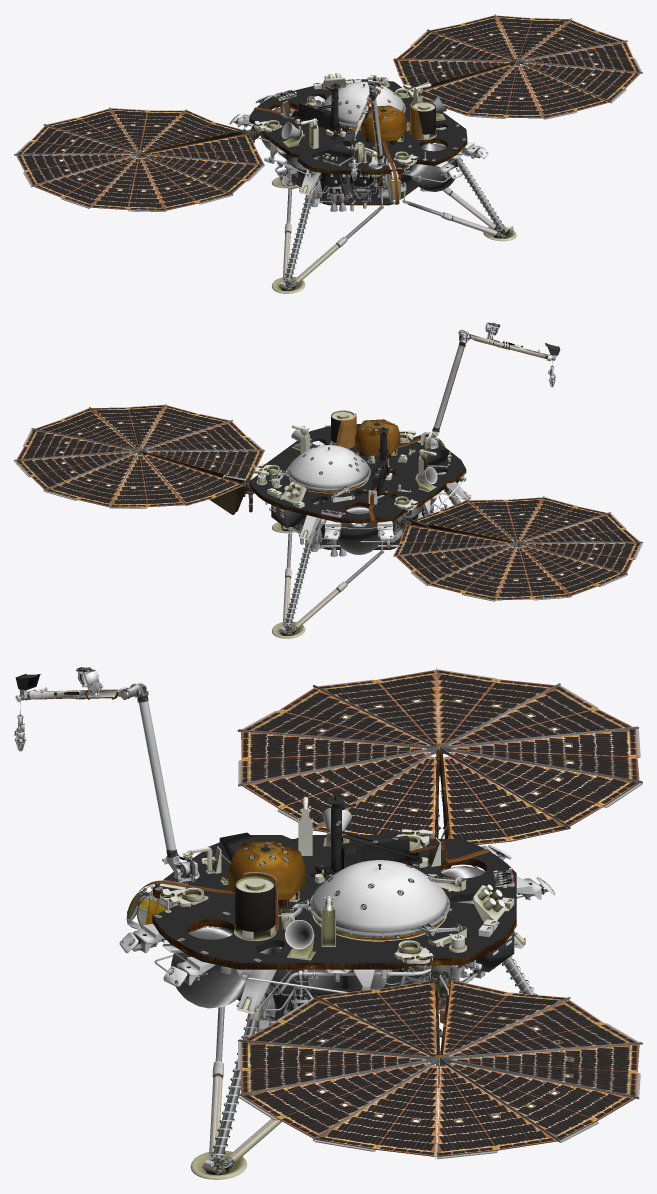
The model's file is insight-B6g1H4--.glb.
The picture shows the model from 3 angles, top to bottom: view 1: azimuth 30°, elevation 25°; view 2: azimuth 150°, elevation 25°; view 3: azimuth 270°, elevation 25°; orthographic projection. The views are drawn at different scales.
Visible parts, largest first — view 1: deck, SEIS, Cube.079, arm_01, cable_02; view 2: deck, SEIS, Cube.079, arm_01, cable_02; view 3: deck, SEIS, Cube.079, arm_01, cable_02.
Part boxes in pixels (left/top/right/bottom): deck: left=14, top=14, right=642, bottom=293; SEIS: left=308, top=75, right=409, bottom=203; Cube.079: left=393, top=59, right=507, bottom=89; arm_01: left=343, top=77, right=388, bottom=180; cable_02: left=286, top=83, right=398, bottom=204; deck: left=14, top=404, right=642, bottom=638; SEIS: left=274, top=323, right=551, bottom=497; Cube.079: left=145, top=454, right=243, bottom=505; arm_01: left=420, top=322, right=560, bottom=447; cable_02: left=290, top=332, right=546, bottom=492; deck: left=119, top=667, right=642, bottom=1179; SEIS: left=27, top=667, right=462, bottom=938; Cube.079: left=443, top=980, right=566, bottom=1054; arm_01: left=14, top=667, right=198, bottom=882; cable_02: left=33, top=689, right=445, bottom=940.
Bounding box in the file's own units: 6.14 × 2.17 × 3.33.
Materials: 11 (11 with a texture image).
